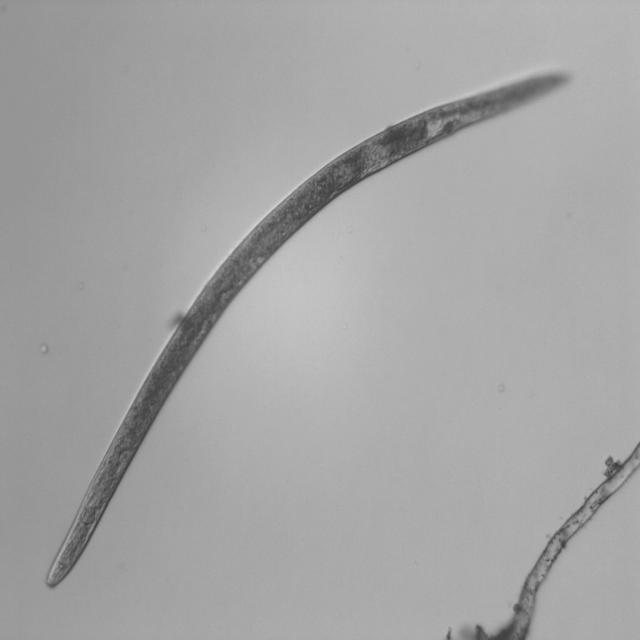Pratylenchus: (44, 60, 579, 591)
